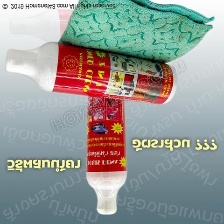cleaning_solution: (1, 36, 180, 105), (82, 66, 129, 216)
